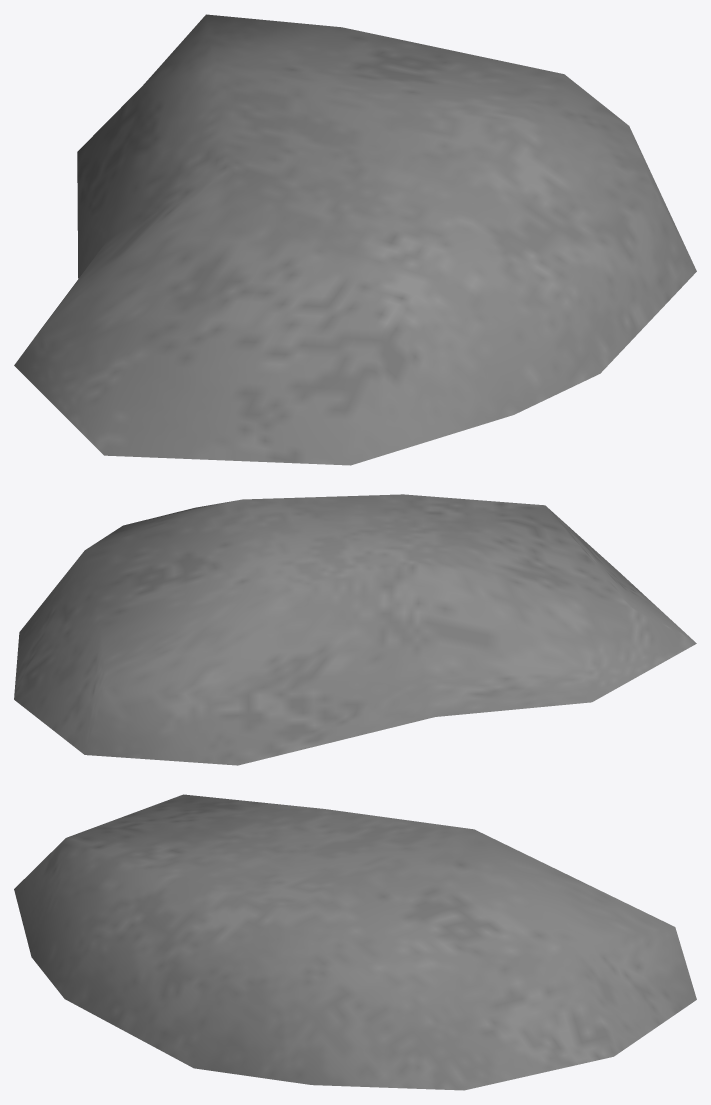
File: Stepping_Stone_2.fbx
3 views of the same model, one above another, from view 1: azimuth 30°, elevation 25°; view 2: azimuth 150°, elevation 25°; view 3: azimuth 270°, elevation 25° (orthographic). The views are drawn at different scales.
Visible parts, largest first — view 1: Cube.080; view 2: Cube.080; view 3: Cube.080.
Boxes of the visible parts, left/top/right/bottom form: Cube.080: left=14, top=14, right=696, bottom=465; Cube.080: left=14, top=494, right=696, bottom=765; Cube.080: left=14, top=794, right=696, bottom=1090.
Size of the model in its own units: 64.76 by 13.39 by 69.33.
